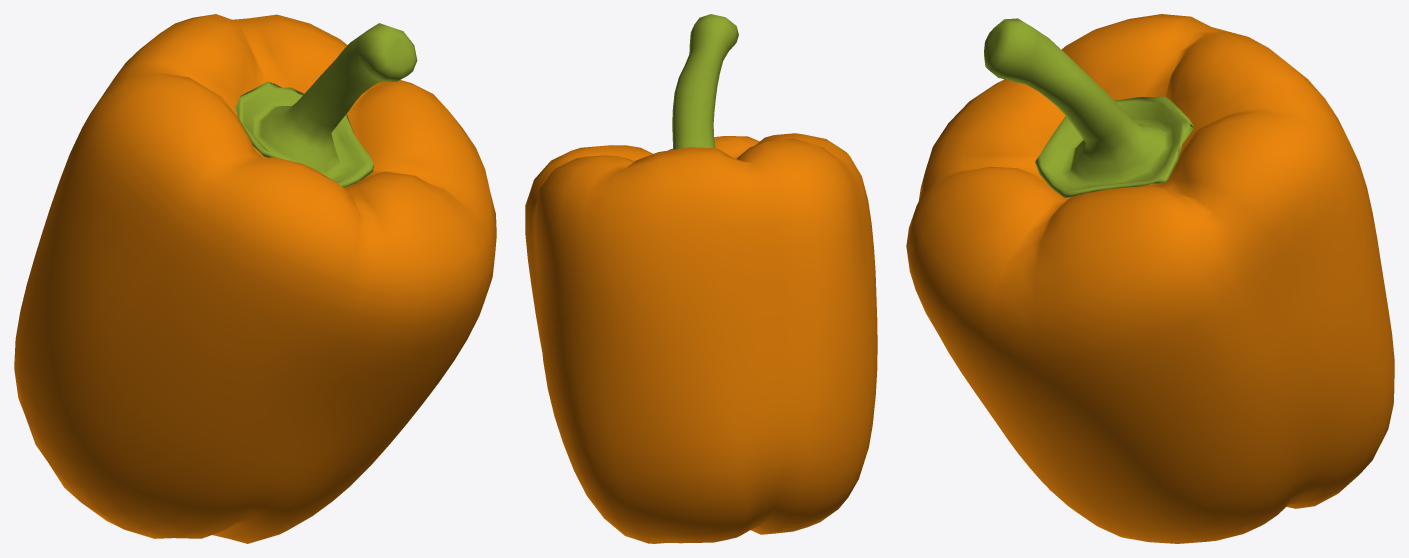
Rendered from BellPepper5.fbx.
The picture shows the model from 3 angles, left to right: view 1: azimuth 30°, elevation 25°; view 2: azimuth 150°, elevation 25°; view 3: azimuth 270°, elevation 25°; orthographic projection. The views are drawn at different scales.
Parts seen in each view (by area): view 1: BellPepper5; view 2: BellPepper5; view 3: BellPepper5.
Boxes of the visible parts, x1=… form: BellPepper5: x1=14, y1=14, x2=496, y2=543; BellPepper5: x1=525, y1=14, x2=877, y2=543; BellPepper5: x1=906, y1=14, x2=1394, y2=543.
Size of the model in its own units: 0.0409 by 0.0524 by 0.0422.
Materials: 1 (1 with a texture image).
